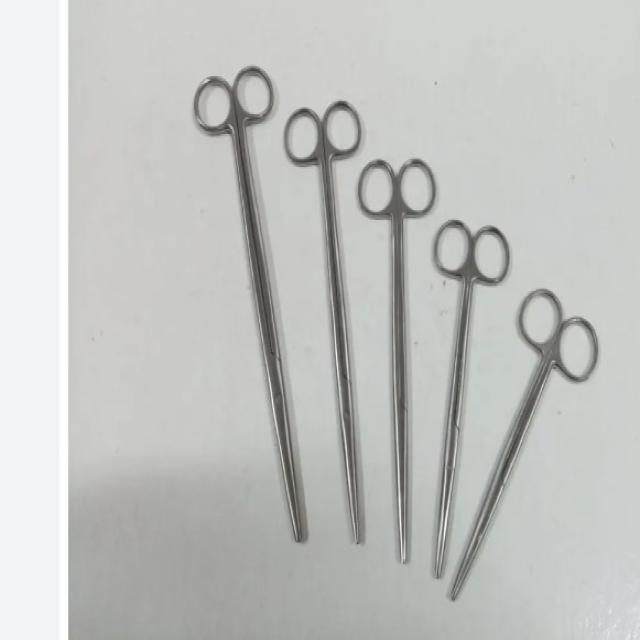Metzenbaum Sciccors: (190, 62, 306, 558), (451, 284, 614, 603), (284, 87, 364, 544), (358, 156, 441, 568), (430, 216, 520, 584)
